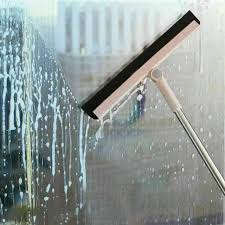Wet-floor: (2, 14, 80, 223)
